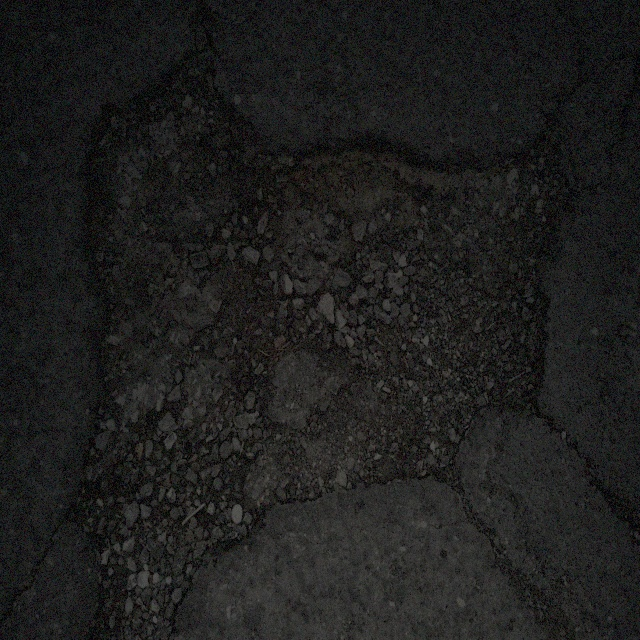pothole: (64, 30, 570, 607)
